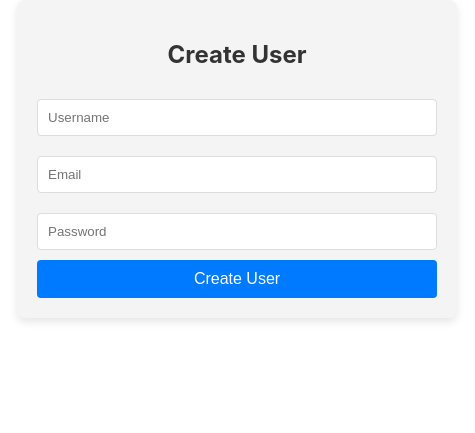
UserForm Component › validates form fields
Click the button "Create User": (237, 279) [37,260,437,298]
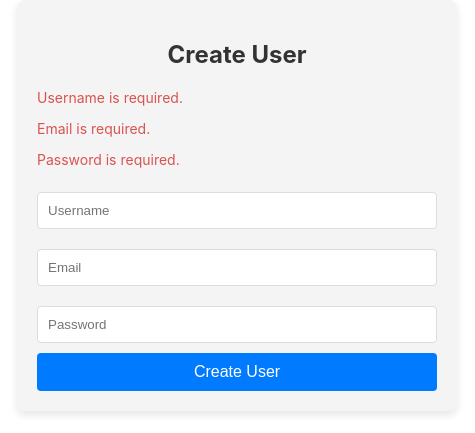
Expected: the text "Username is required." is shown, [37,89,183,106]
Expected: the text "Email is required." is shown, [37,120,150,137]
Expected: the text "Password is required." is shown, [37,151,180,168]
